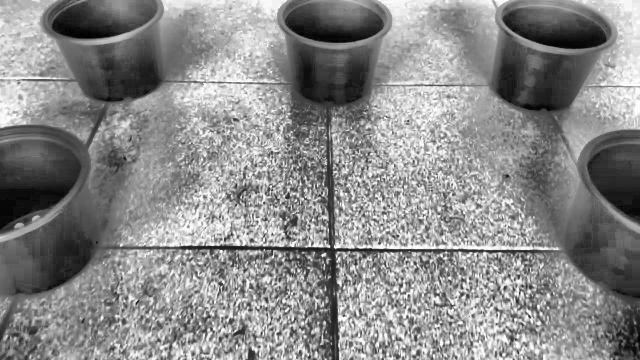pot: (0, 126, 101, 298), (490, 0, 619, 112), (562, 130, 640, 298), (41, 0, 165, 103), (277, 0, 392, 106)
